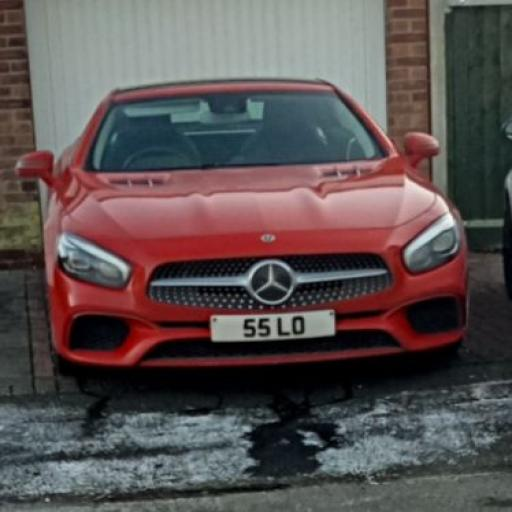numberplates: (211, 310, 335, 341)
